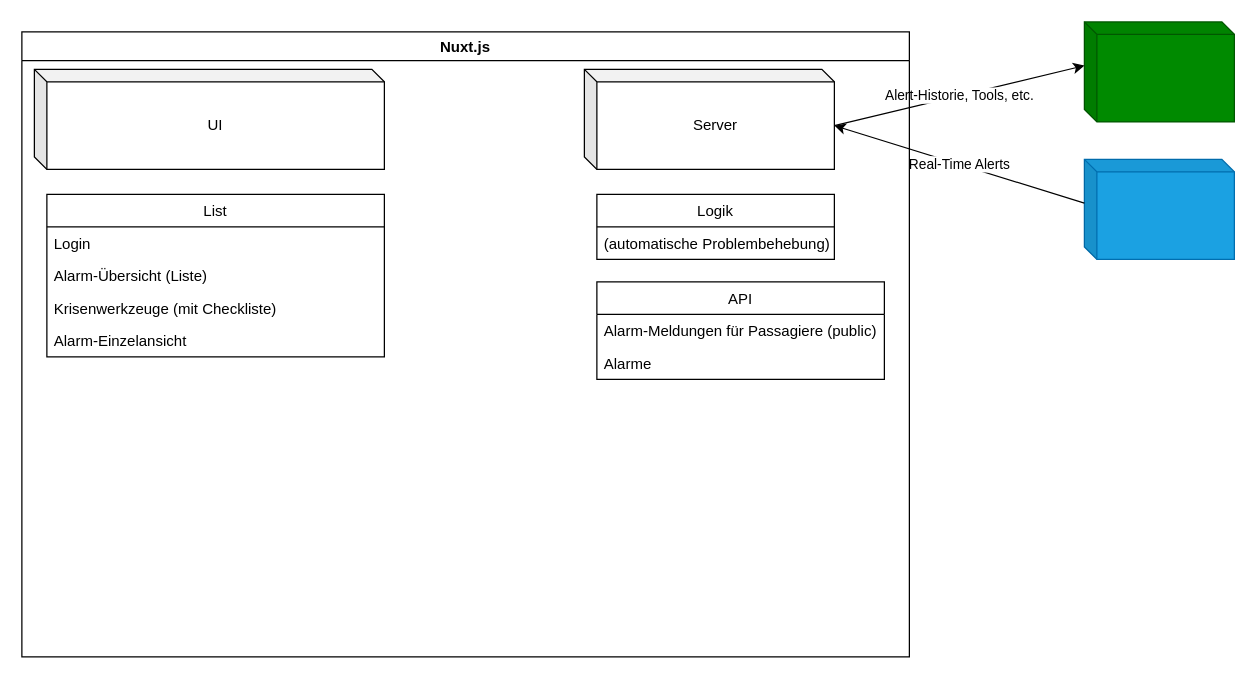
Some shapes in this 1256 by 679 pixel diagram are drawn without their labels. The shapes that lost their labels are listed below. From the top down, each one's centre as x and y in pixels, then its label:
At point (1158, 71): "DB".
At point (1158, 208): "Analyse".
